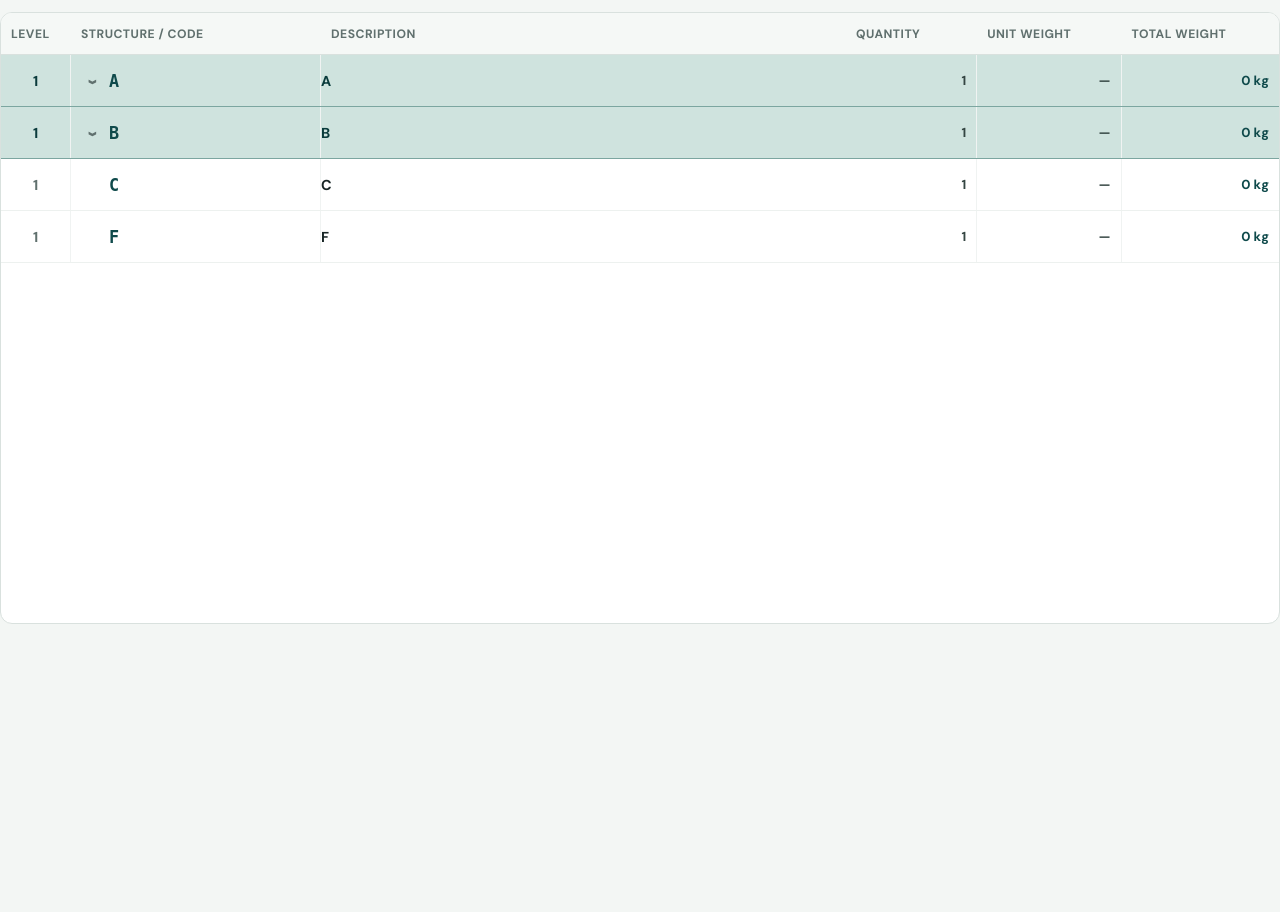
Test: BomFocusControls integration › selects an occurrence, focuses it to its leaf, then restores the full structure
Expected: the list item with aria-label "A:" is shown, [1, 55, 1279, 107]
Expected: the list item with aria-label "F:" is shown, [1, 211, 1279, 263]
Click the 1st button "B" at [114, 132], box [109, 122, 119, 142]
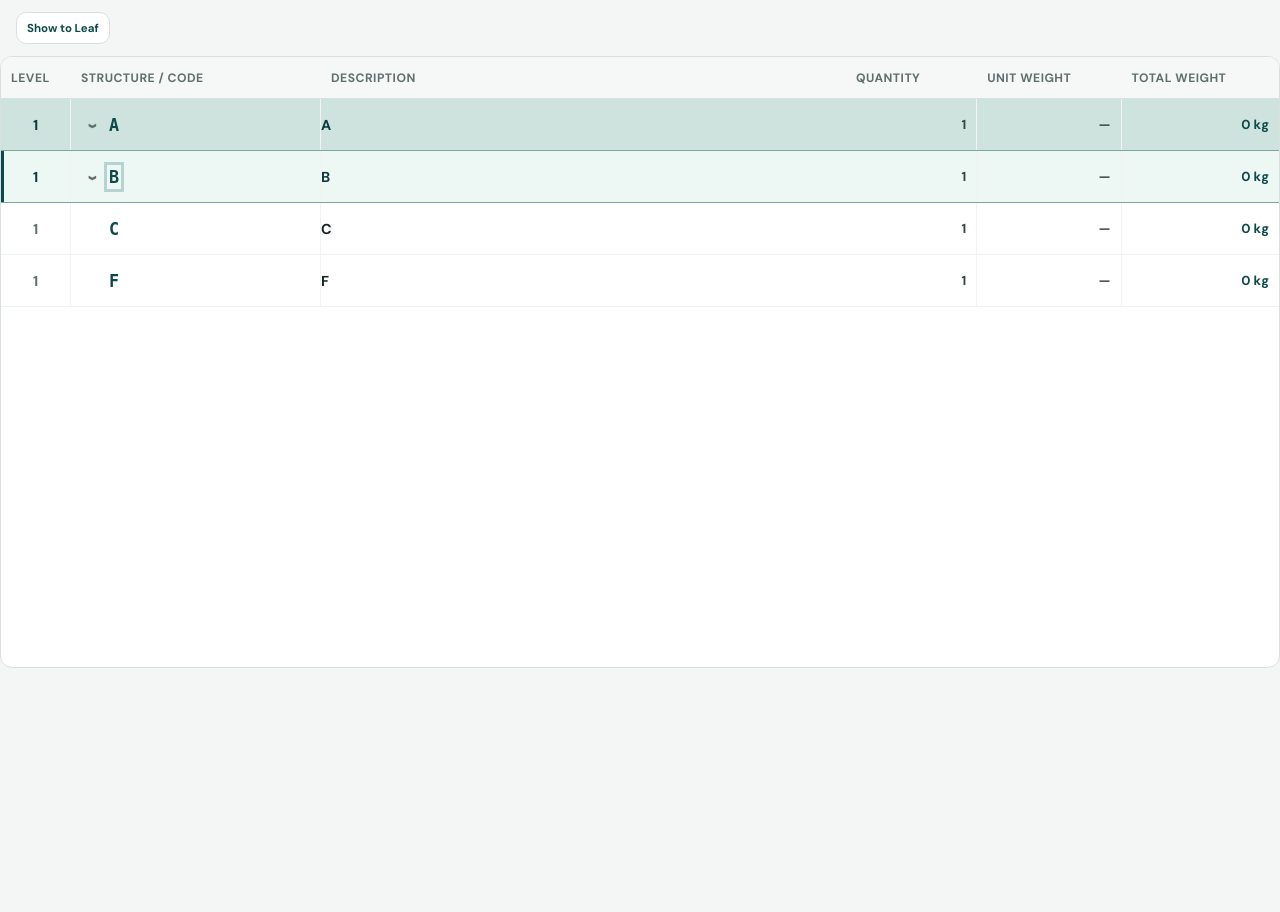
Click the button "Show to Leaf" at [63, 28], box [16, 12, 110, 44]
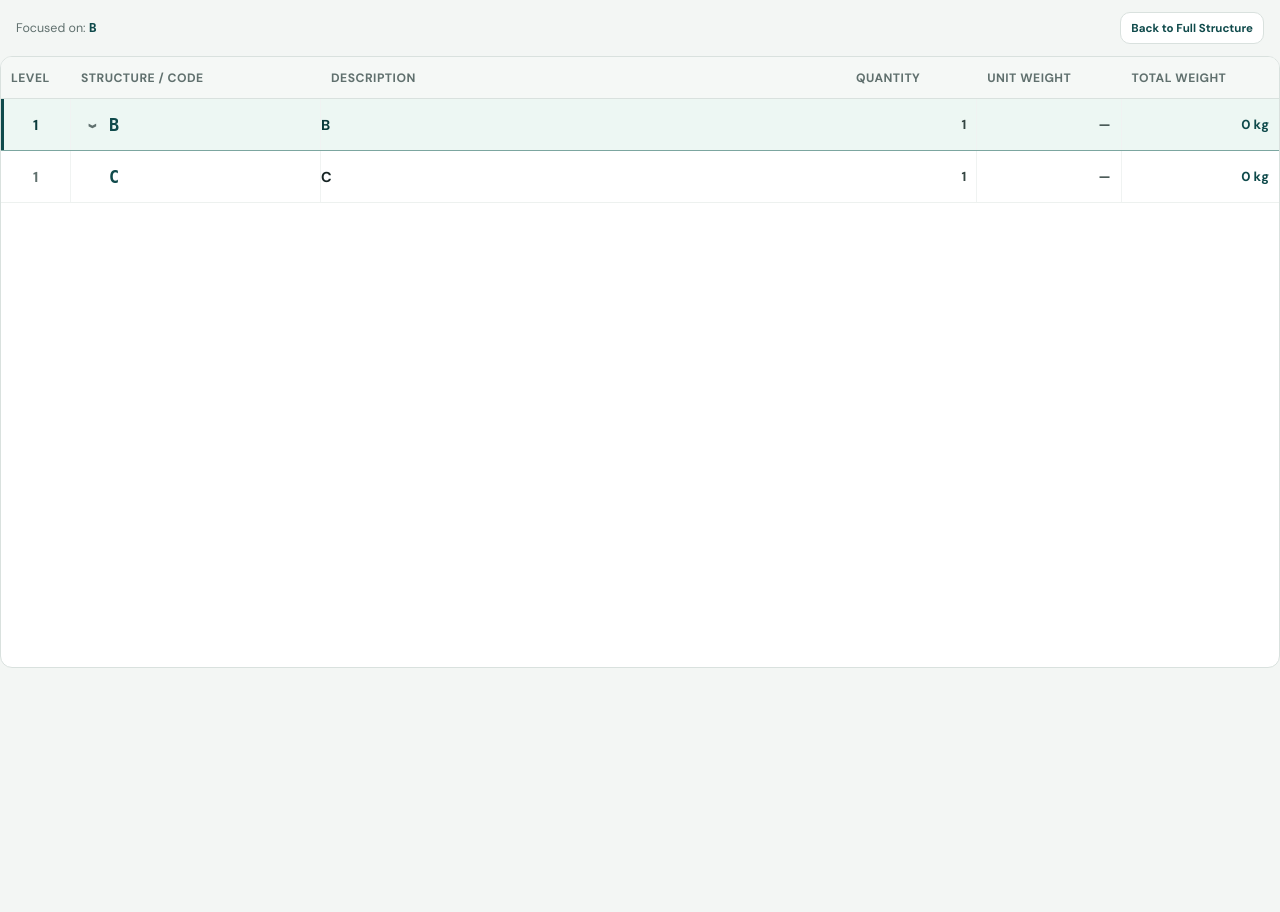
Expected: the list item with aria-label "C:" is shown, [1, 151, 1279, 203]
Result: the text "Focused on: B" is shown at [16, 20, 96, 36]
Click the button "Back to Full Structure" at [1192, 28], box [1120, 12, 1264, 44]
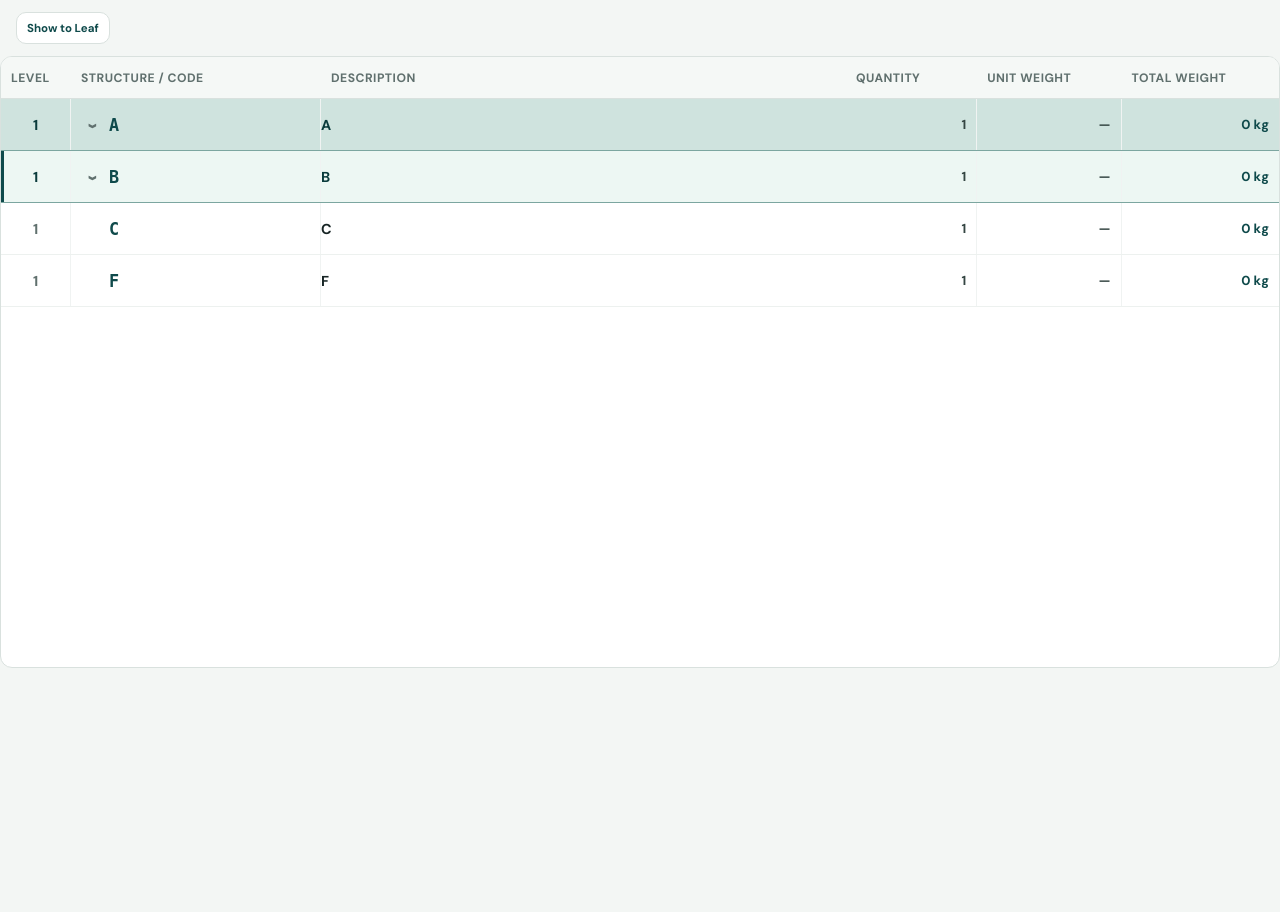
Result: the list item with aria-label "A:" is shown at [1, 99, 1279, 151]
Result: the list item with aria-label "F:" is shown at [1, 255, 1279, 307]
